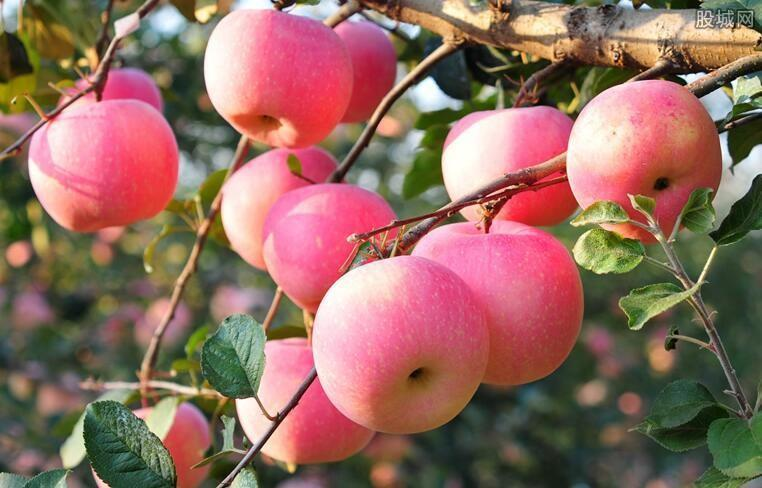apple: (313, 254, 484, 434), (415, 221, 584, 386), (568, 74, 722, 224), (200, 6, 352, 151), (28, 92, 182, 231), (235, 335, 376, 463), (262, 180, 398, 308), (438, 108, 576, 225)
